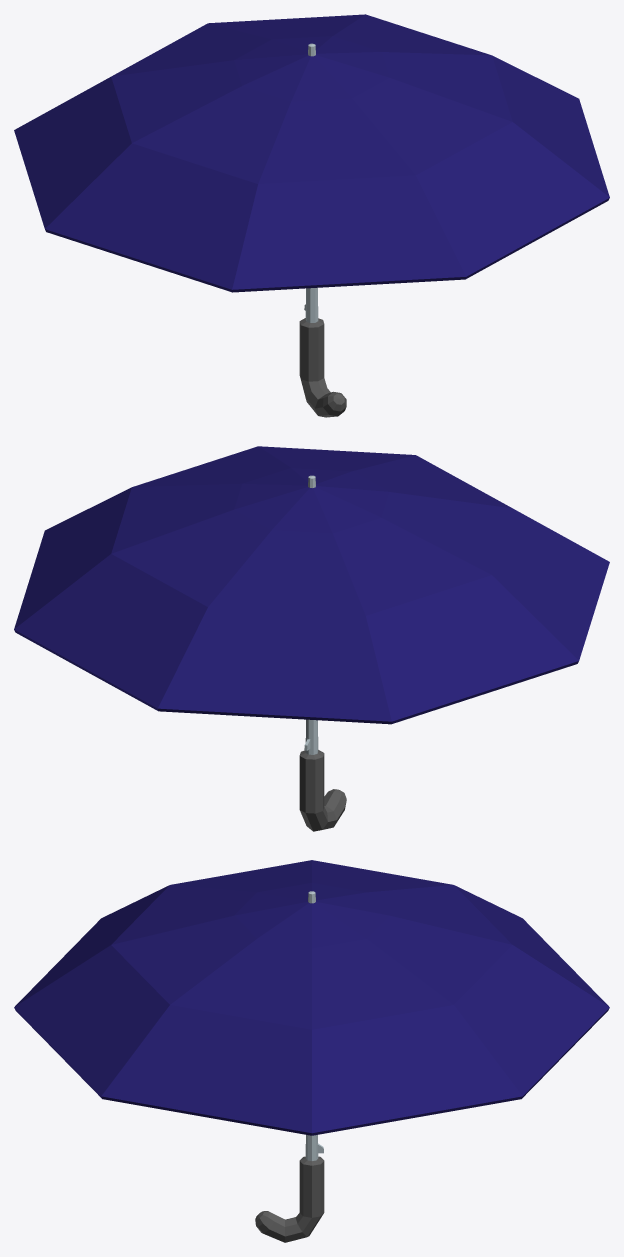
The model's file is umbrella.glb.
The picture shows the model from 3 angles, top to bottom: view 1: azimuth 30°, elevation 25°; view 2: azimuth 150°, elevation 25°; view 3: azimuth 270°, elevation 25°; orthographic projection. The views are drawn at different scales.
Visible parts, largest first — view 1: Umbrella_Circle.001; view 2: Umbrella_Circle.001; view 3: Umbrella_Circle.001.
Part boxes in pixels (x1,y1,x2,y2): Umbrella_Circle.001: [14, 14, 609, 417]; Umbrella_Circle.001: [14, 446, 609, 831]; Umbrella_Circle.001: [14, 860, 609, 1242].
Bounding box in the file's own units: 15.27 × 9.9 × 15.27.
